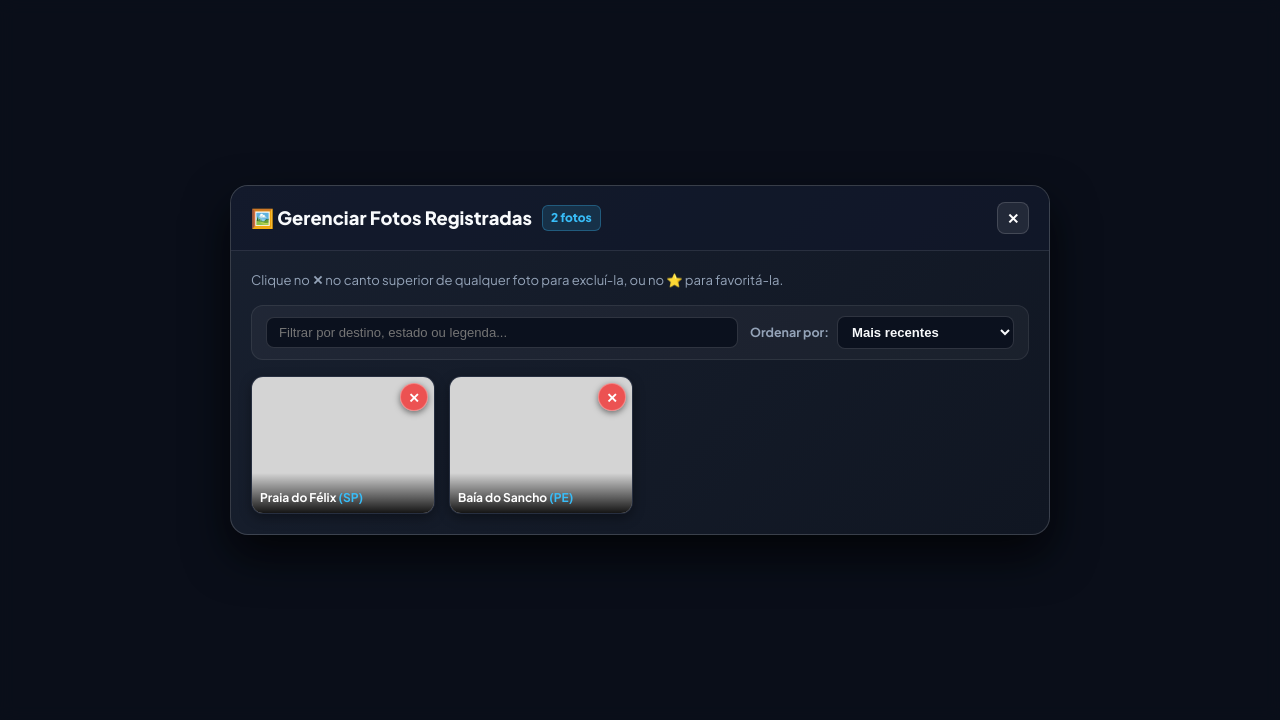
Test: PhotoManagerModal component › opens confirmation sub-dialog on photo delete button click, and cancels
Later steps or results of the test are not shown.
// Click delete on first photo
Click the button named "remover foto de praia do félix".
click(414, 397)  # box [400,383,428,411]
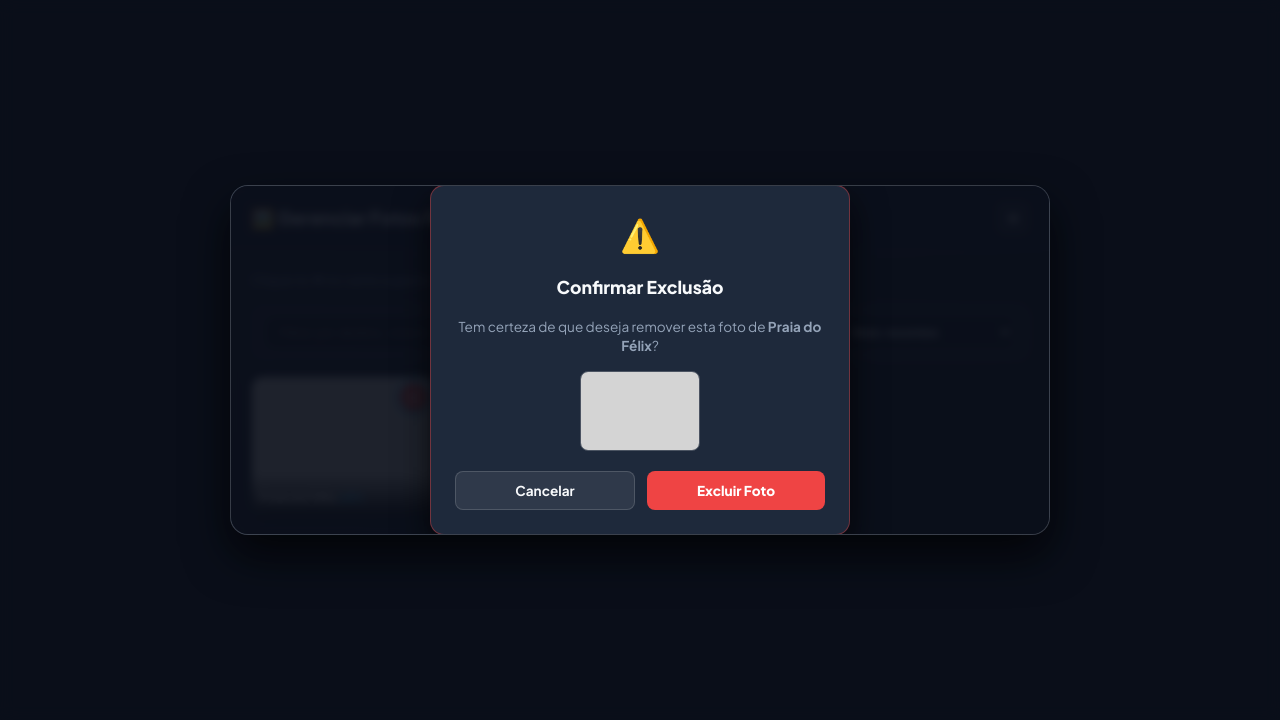
Result: the dialog is shown at [231,186,1049,534]
Result: the heading "Confirmar Exclusão" is shown at [557,274,724,301]
